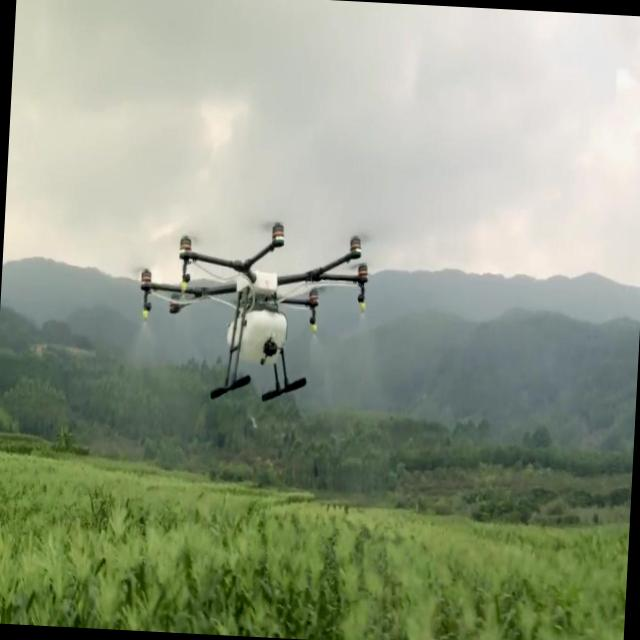drone: (132, 211, 374, 412)
